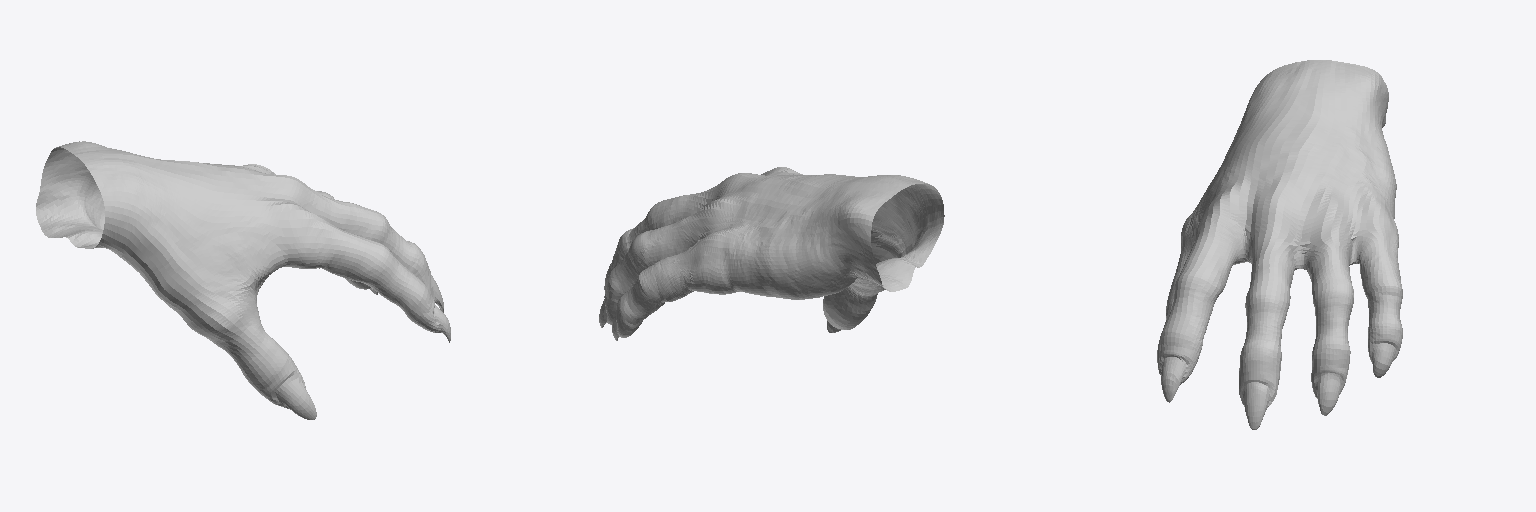
Rendered from orc hand-17000.OBJ.
The picture shows the model from 3 angles: view 1: azimuth 30°, elevation 25°; view 2: azimuth 150°, elevation 25°; view 3: azimuth 270°, elevation 25°; orthographic projection.
Parts seen in each view (by area): view 1: ZBrushPolyMesh3D; view 2: ZBrushPolyMesh3D; view 3: ZBrushPolyMesh3D.
Part boxes in pixels (left/top/right/bottom): ZBrushPolyMesh3D: left=36, top=141, right=450, bottom=419; ZBrushPolyMesh3D: left=599, top=167, right=944, bottom=340; ZBrushPolyMesh3D: left=1157, top=60, right=1402, bottom=429.
Bounding box in the file's own units: 0.2781 × 0.1827 × 0.1696.